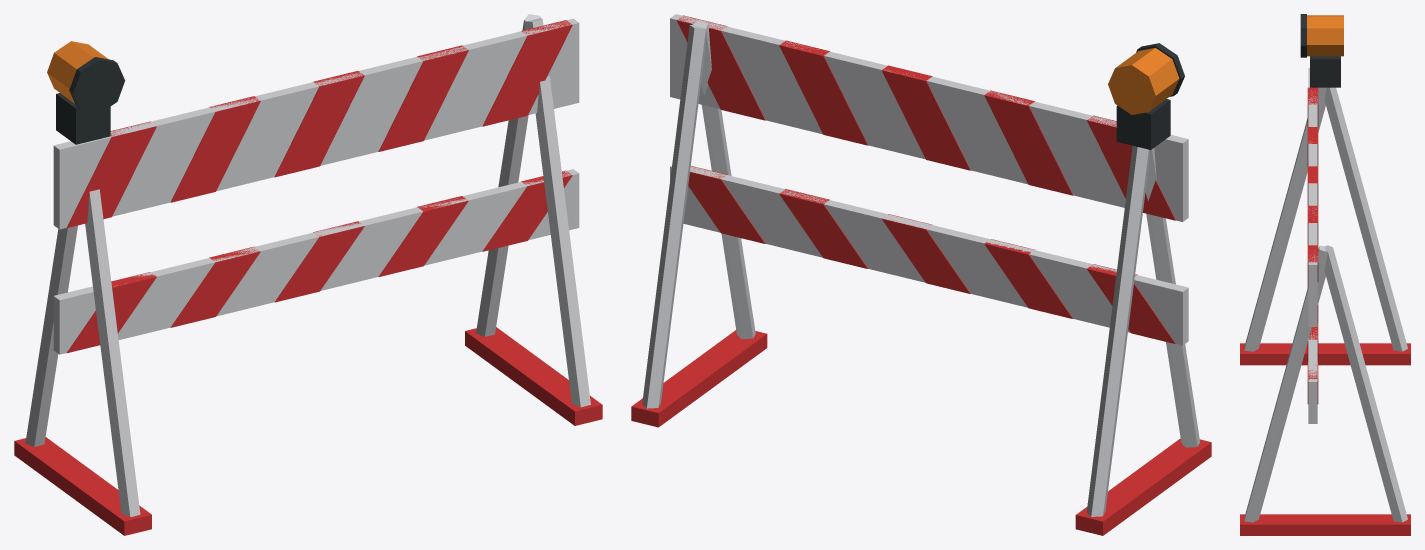
Rendered from absperrbake.glb.
3 views of the same model, side by side, from view 1: azimuth 30°, elevation 25°; view 2: azimuth 150°, elevation 25°; view 3: azimuth 270°, elevation 25° (orthographic). The views are drawn at different scales.
Visible parts, largest first — view 1: absperrbake-m; view 2: absperrbake-m; view 3: absperrbake-m.
Part boxes in pixels (x1,y1,x2,y2): absperrbake-m: (14, 14, 602, 535); absperrbake-m: (631, 14, 1211, 535); absperrbake-m: (1240, 14, 1410, 535).
Size of the model in its own units: 1.5 by 1.23 by 0.55.
